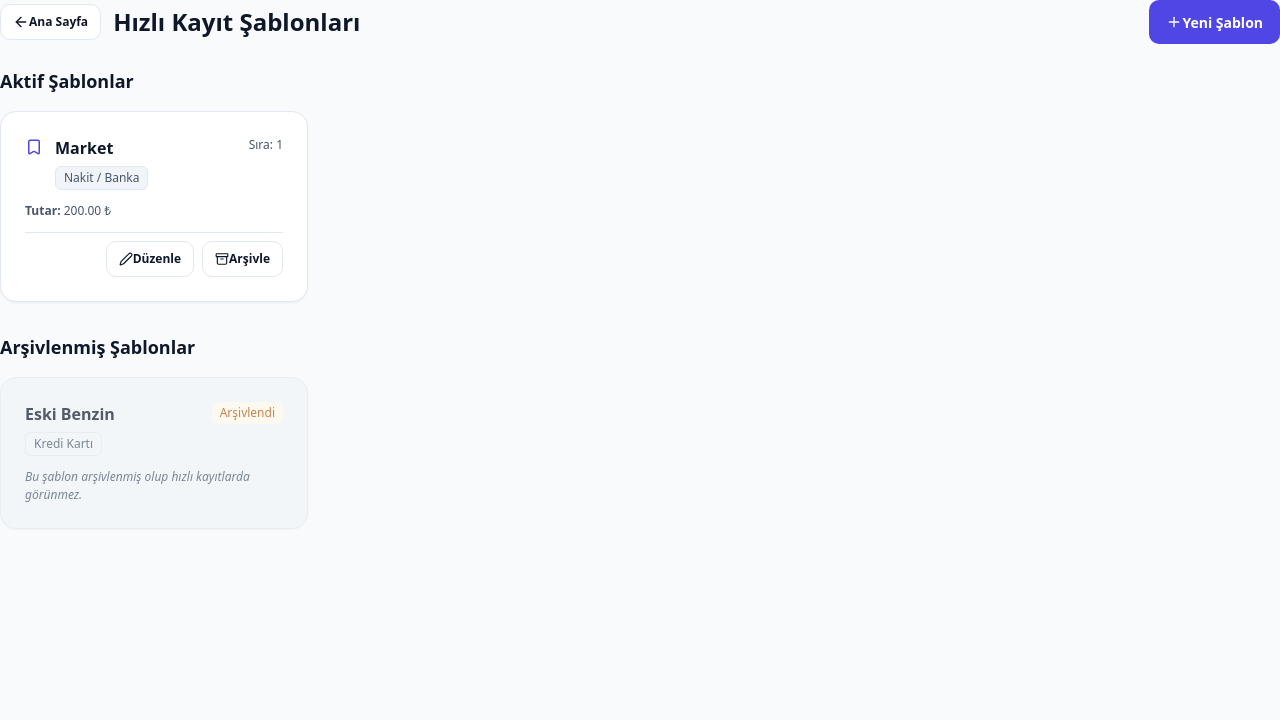
Test case: Template Management & Server Synchronization (Section 71-73) › R1 — AccessibleModal integration for Template Management › R1-C: dialog has role=dialog, aria-modal=true, and accessible name
The image size is (1280, 720).
Expected: the heading "Market" is shown, [55,137,113,159]
Click the button with test id "create-template-btn". click: x=1215, y=22
box: [1149,0,1279,44]
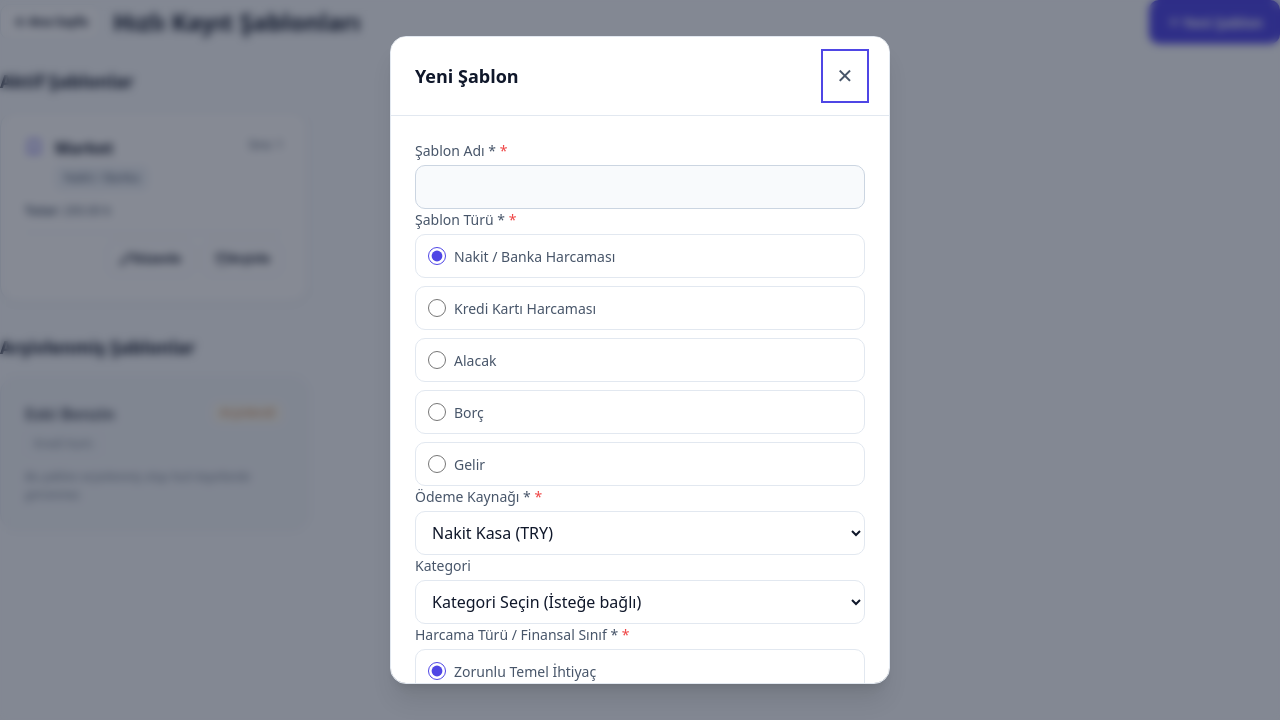
Expected: the dialog is shown, [390,36,890,684]
Expected: the heading "Yeni Şablon" is shown, [415,62,519,90]
